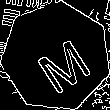M_NW: (23, 23, 89, 91)
